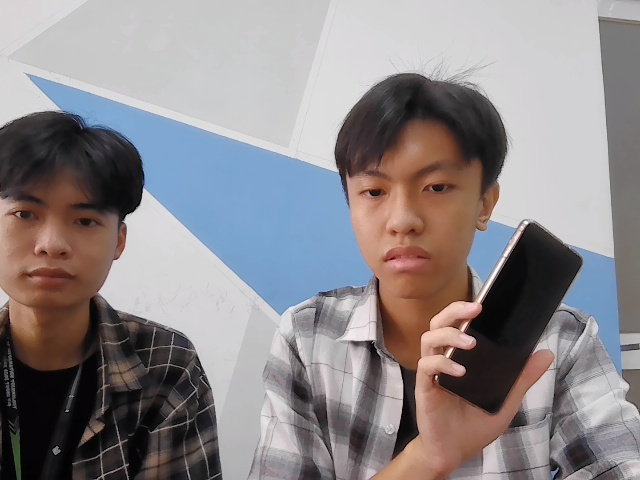human: (343, 73, 508, 303), (1, 113, 154, 311)
phone: (430, 207, 581, 419)
